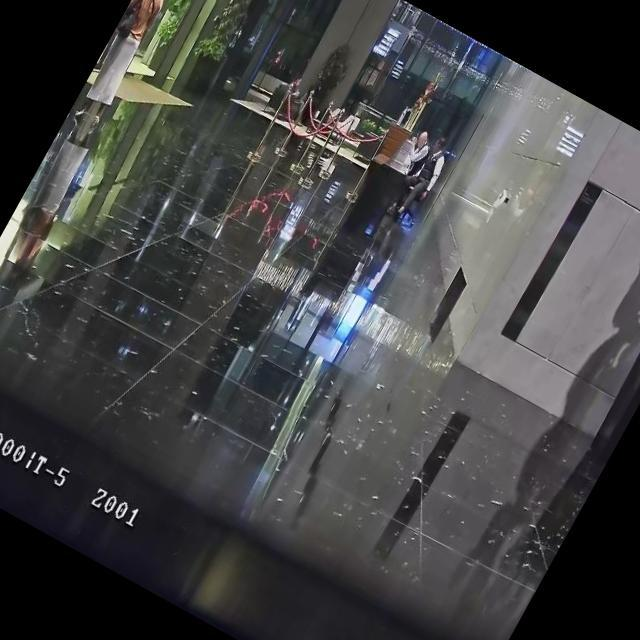person: (70, 0, 185, 126), (392, 129, 458, 218), (398, 128, 438, 179)
